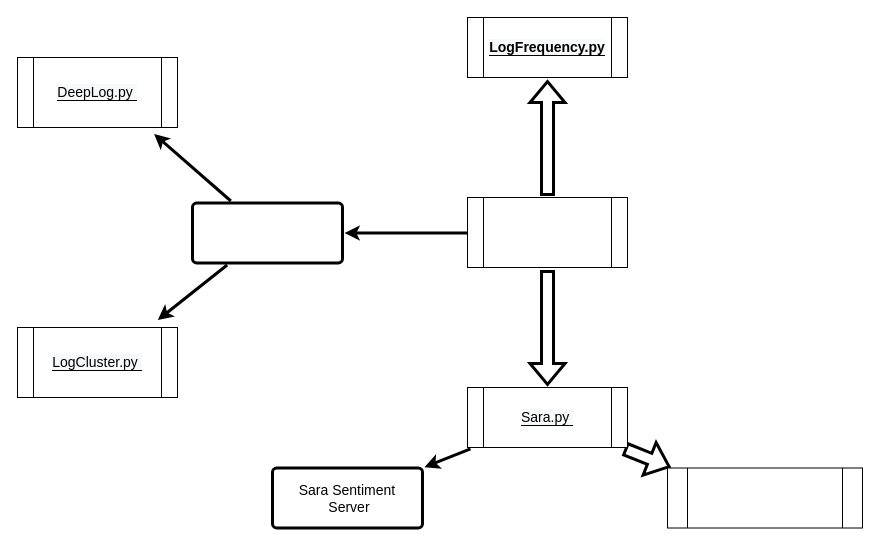
Some shapes in this 880 by 547 pixel diagram are drawn without their labels. The shapes that lost their labels are listed below. From the top down, each one's centre as x and y in pixels, then its label:
At (267,232): "Offline Model Server".
At (547,232): "Detection.py".
At (764,497): "Sara_rarenes.py".
